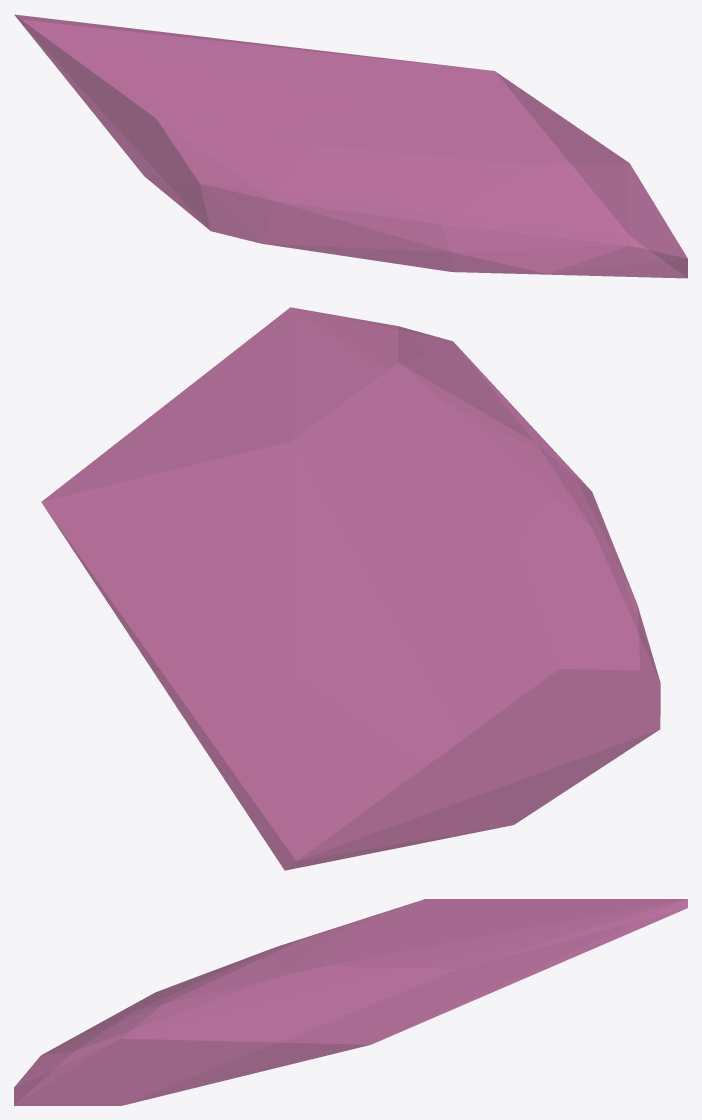
The picture shows the model from 3 angles, top to bottom: view 1: azimuth 30°, elevation 25°; view 2: azimuth 150°, elevation 25°; view 3: azimuth 270°, elevation 25°; orthographic projection. The views are drawn at different scales.
Visible parts, largest first — view 1: Shape_IndexedFaceSet.007_Shape_IndexedFaceSet.7613; view 2: Shape_IndexedFaceSet.007_Shape_IndexedFaceSet.7613; view 3: Shape_IndexedFaceSet.007_Shape_IndexedFaceSet.7613.
Boxes of the visible parts, <box> form: Shape_IndexedFaceSet.007_Shape_IndexedFaceSet.7613: <box>14,14,687,278</box>; Shape_IndexedFaceSet.007_Shape_IndexedFaceSet.7613: <box>41,307,660,870</box>; Shape_IndexedFaceSet.007_Shape_IndexedFaceSet.7613: <box>14,899,687,1105</box>.
Size of the model in its own units: 0.1002 by 0.0225 by 0.2044.
